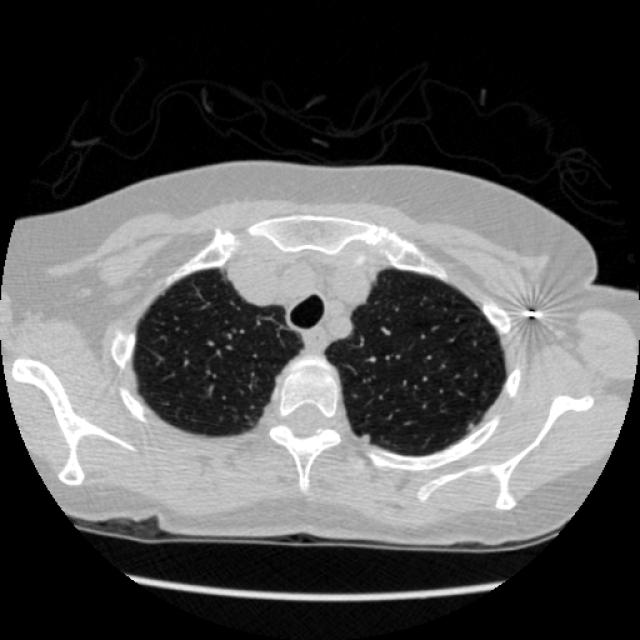nodule: (355, 426, 375, 446)
